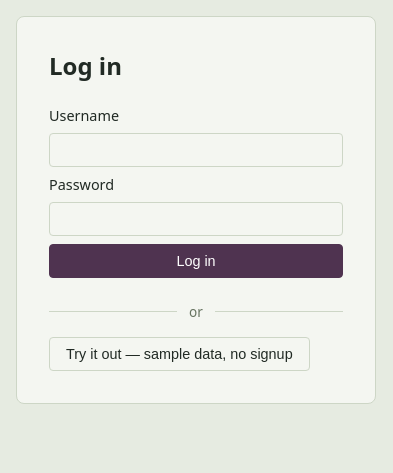
Login demo mode › shows a rate-limit message on a 429 response from the demo endpoint
Click the button "Try it out — sample data, no signup". click: click(179, 354)
box: [49,337,310,371]
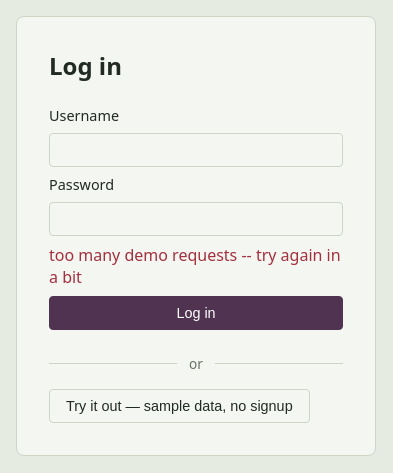
Expected: the message shows "too many demo requests", [49,244,341,288]
